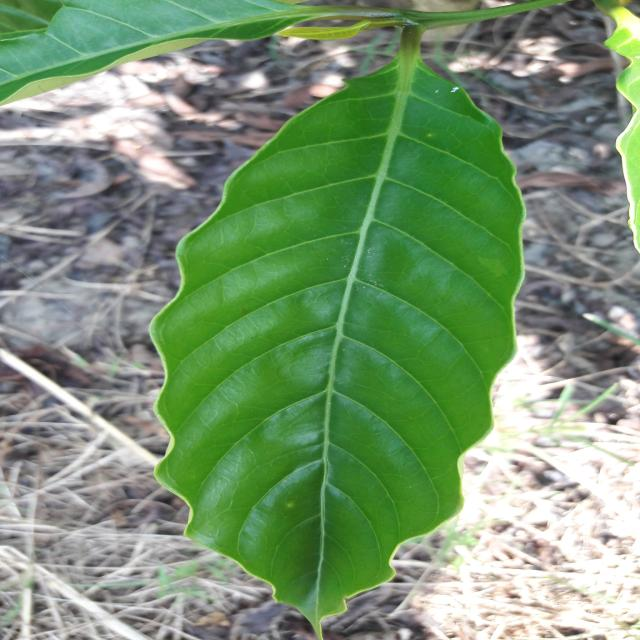Sanas: (149, 29, 526, 632)
